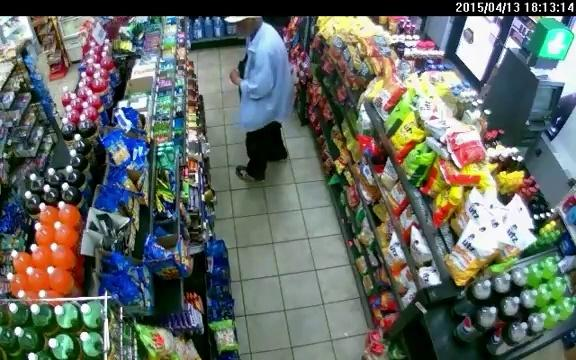Regular: (210, 14, 332, 198)
